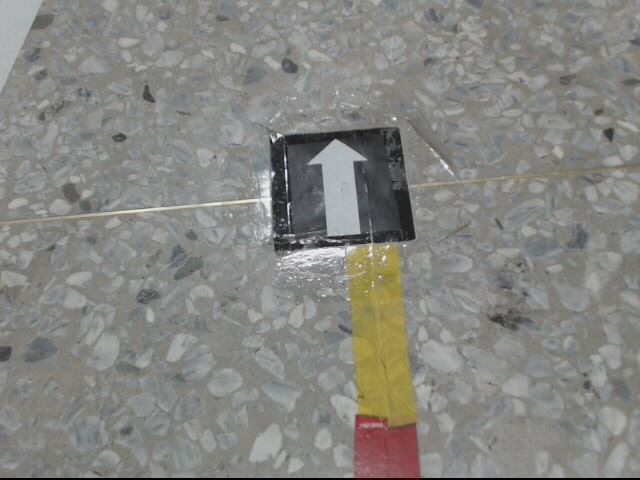straight: (266, 127, 420, 252)
